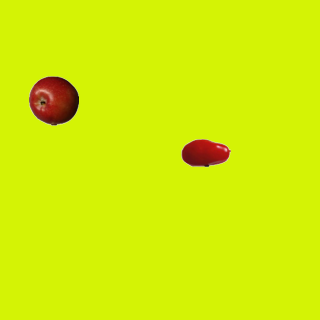Apple Braeburn: (28, 75, 78, 125)
Tomato 2: (180, 127, 230, 177)
